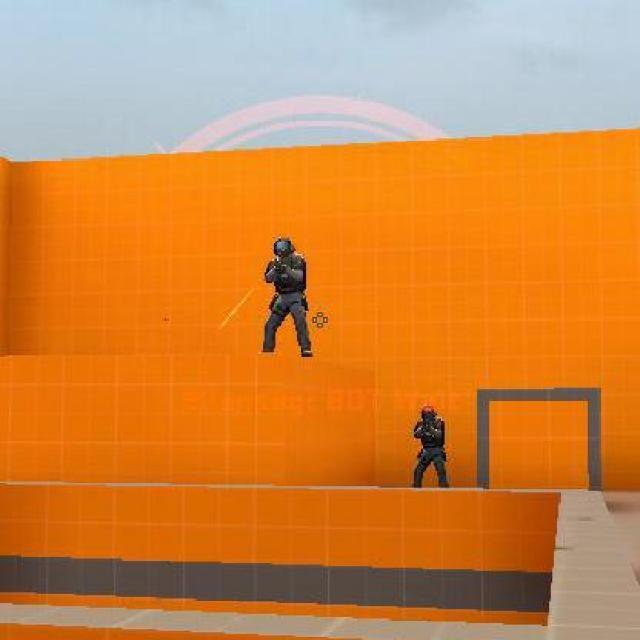CT: (260, 235, 312, 357), (410, 404, 450, 490)
CT_HEAD: (272, 235, 297, 260), (420, 404, 437, 424)
